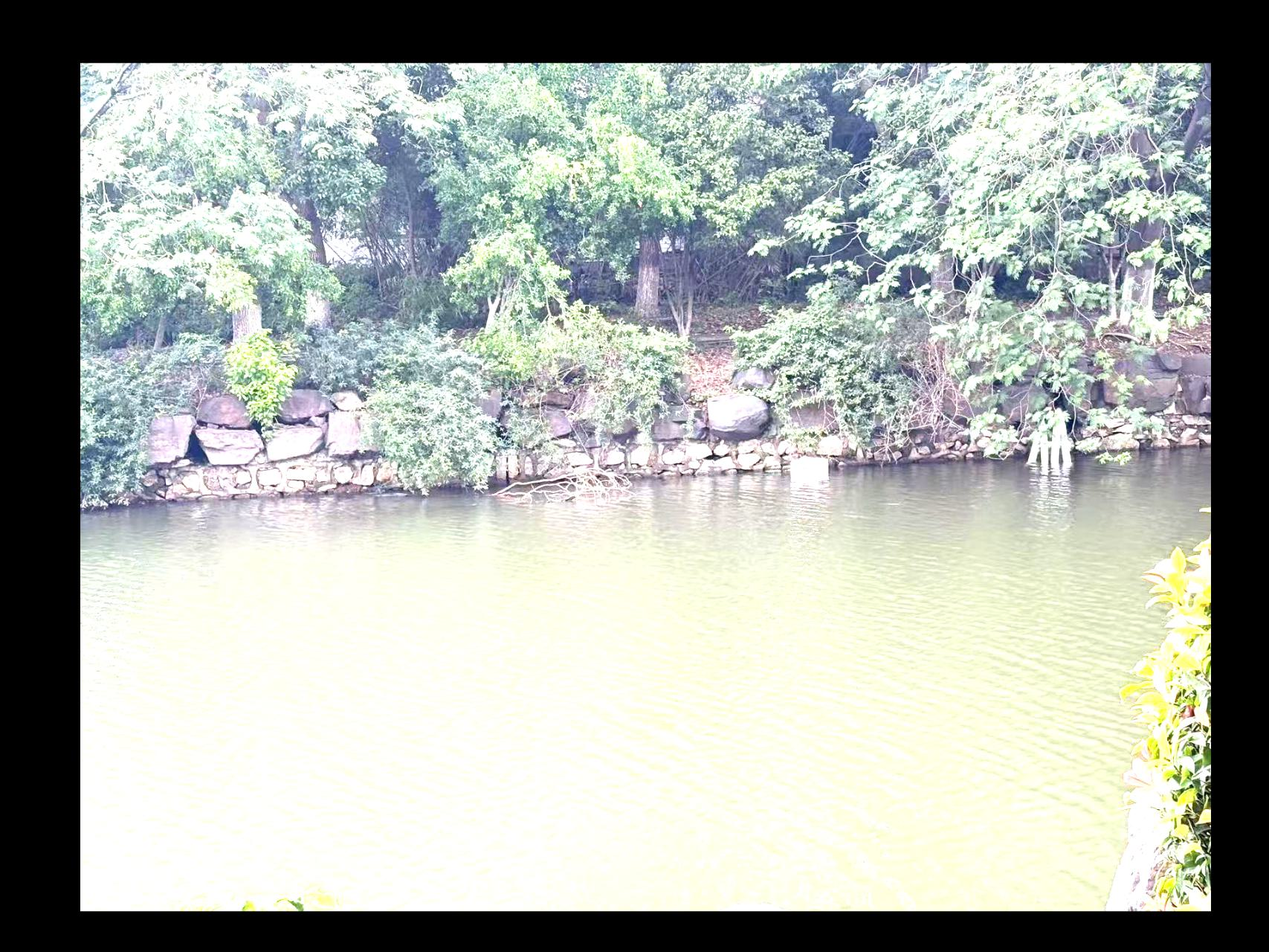Plastic wastes: (786, 455, 827, 484)
